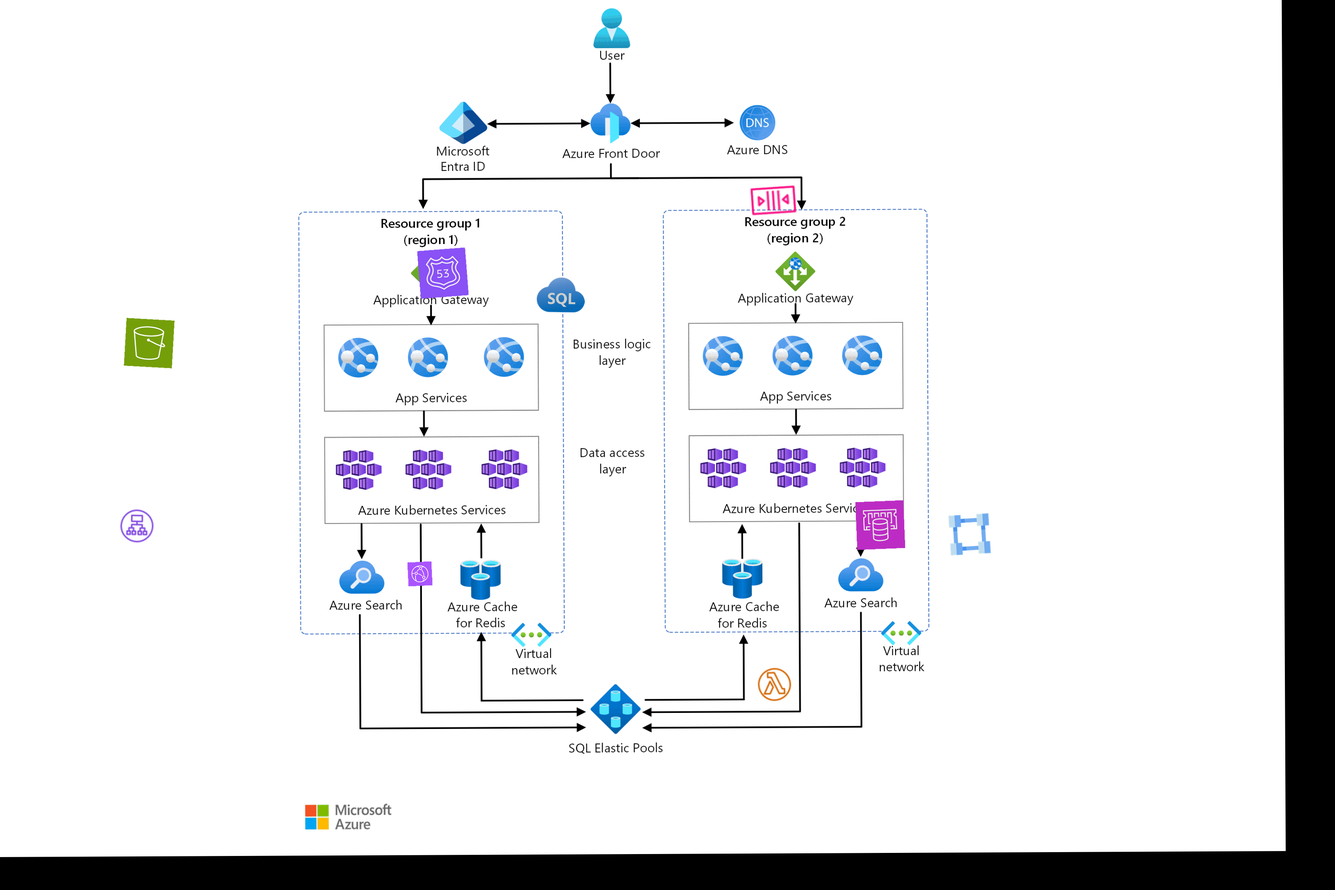aws_amazon_cloudfront: (407, 561, 433, 586)
aws_amazon_elasticache: (855, 500, 905, 550)
aws_amazon_route_53: (417, 247, 469, 299)
aws_amazon_simple_storage_service: (124, 317, 175, 368)
aws_elastic_load_balancing_application_load_balancer: (118, 508, 155, 544)
aws_lambda_lambda_function: (755, 665, 793, 703)
aws_simple_queue_service_queue: (747, 174, 799, 225)
azure_sql: (536, 271, 586, 320)
gcp_virtual_private_cloud: (944, 509, 995, 560)
